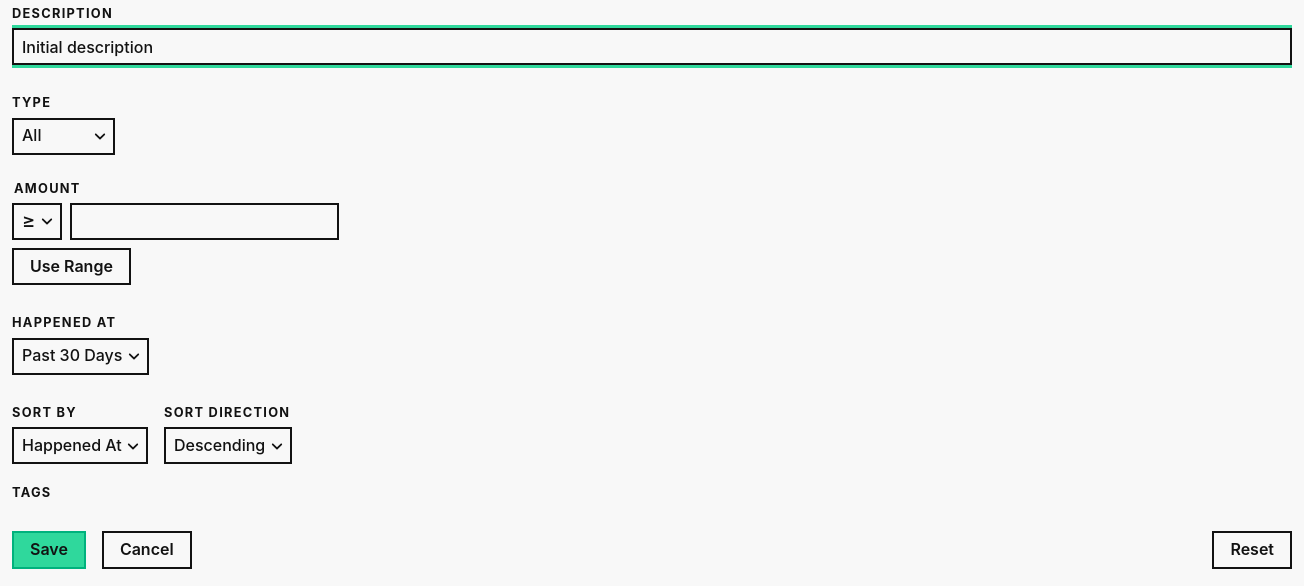
Test: Reset button › resets the form state
The width and height of the screenshot is (1304, 586).
Replace the text in the field named "description" with "Updated description" at coordinates (652, 47), box [12,28,1292,65]
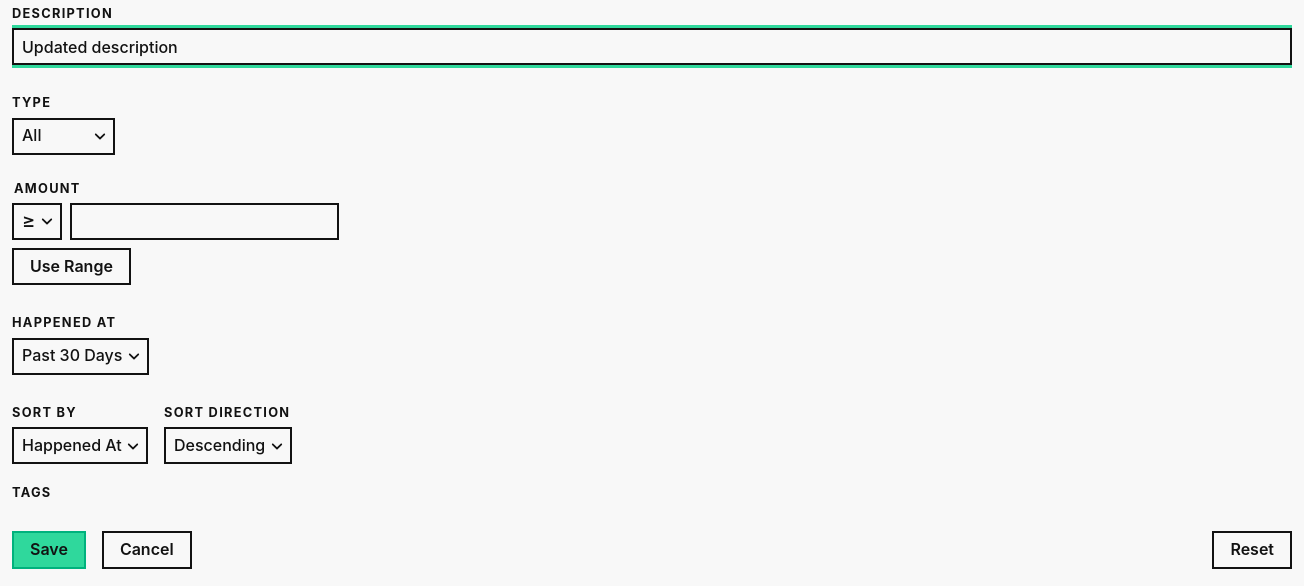
Click the button "Reset" at coordinates (1252, 550), box [1212,531,1292,569]
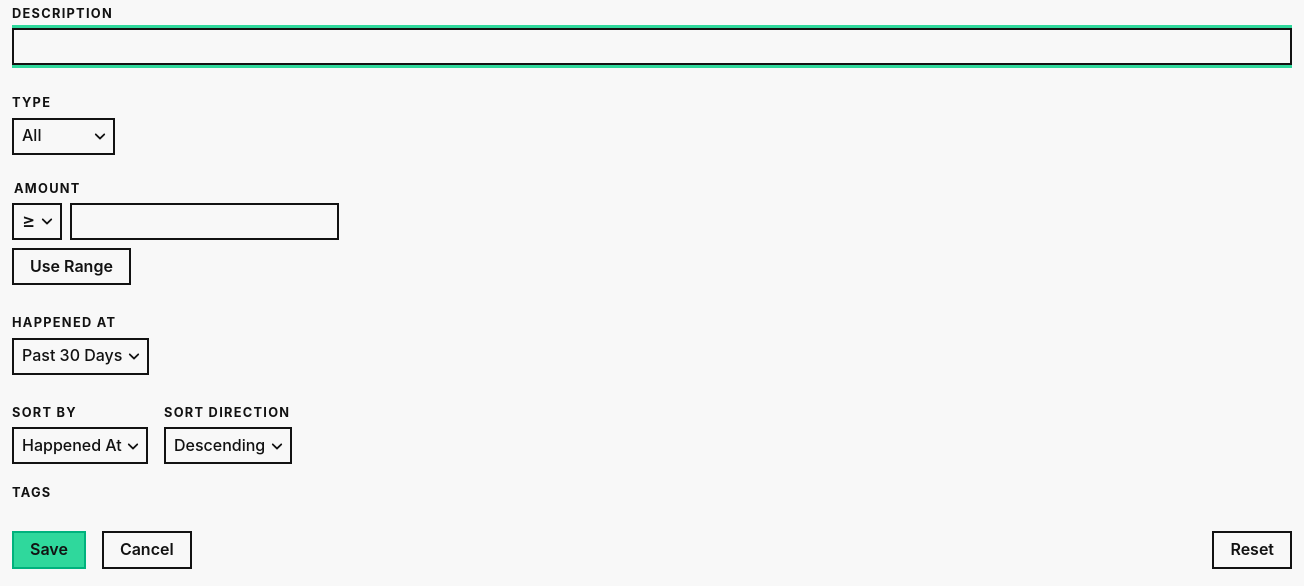
Now the field named "description" is empty, box [12,28,1292,65]
